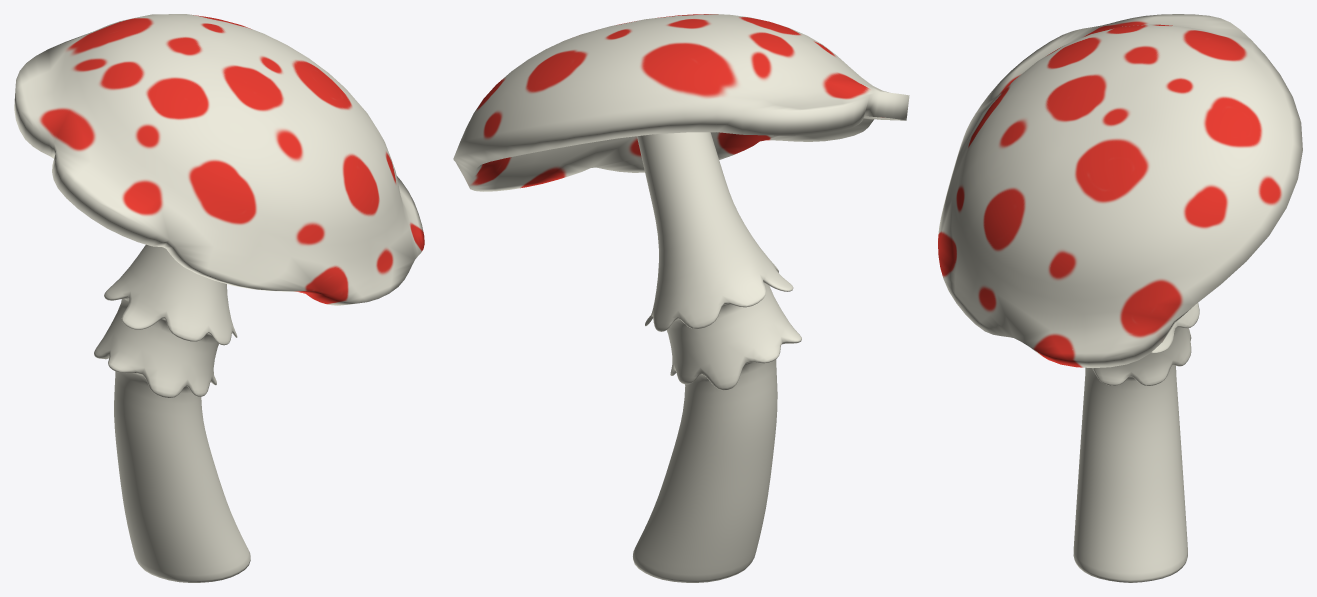
Rendered from White Russula.fbx.
The picture shows the model from 3 angles, left to right: view 1: azimuth 30°, elevation 25°; view 2: azimuth 150°, elevation 25°; view 3: azimuth 270°, elevation 25°; orthographic projection. The views are drawn at different scales.
Visible parts, largest first — view 1: White Russula.001, White Russula handle; view 2: White Russula.001, White Russula handle; view 3: White Russula.001, White Russula handle.
Boxes of the visible parts, bbox=[...] form: White Russula.001: bbox=[14, 14, 424, 305]; White Russula handle: bbox=[94, 244, 250, 582]; White Russula.001: bbox=[453, 14, 909, 191]; White Russula handle: bbox=[633, 132, 801, 582]; White Russula.001: bbox=[938, 14, 1302, 368]; White Russula handle: bbox=[1073, 303, 1199, 582].
Bounding box in the file's own units: 70.2 × 91.06 × 59.22.
